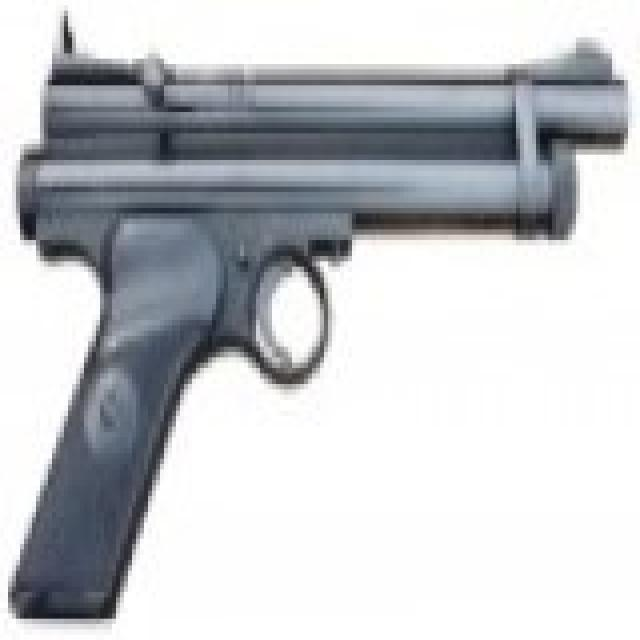gun: (4, 11, 628, 613)
